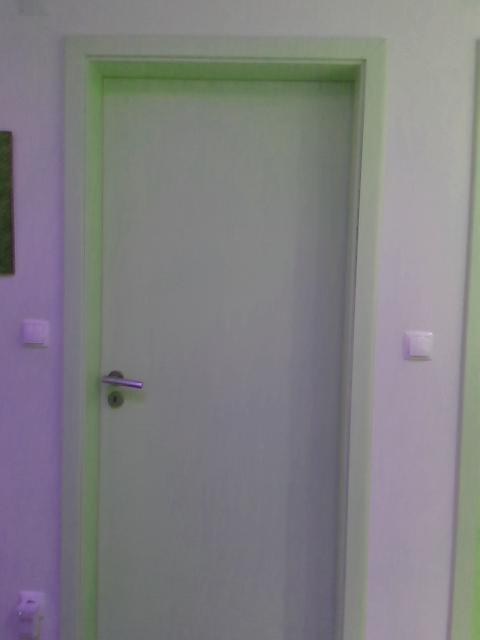closed_door: (57, 36, 386, 639)
